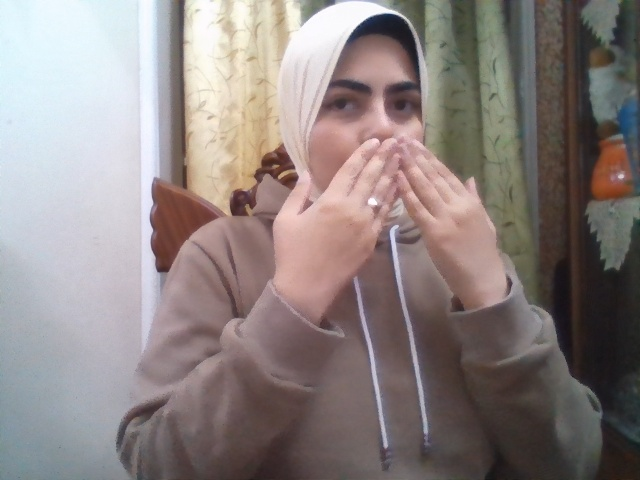thanks: (273, 138, 508, 286)
